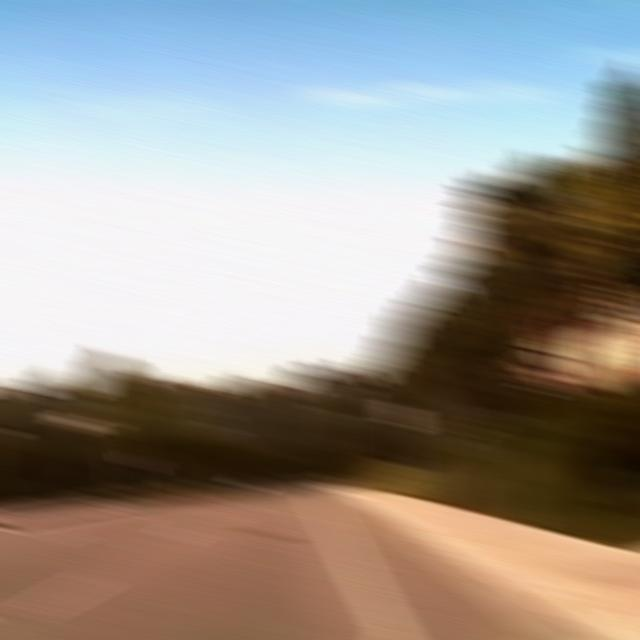speedLimit45: (385, 401, 419, 430)
